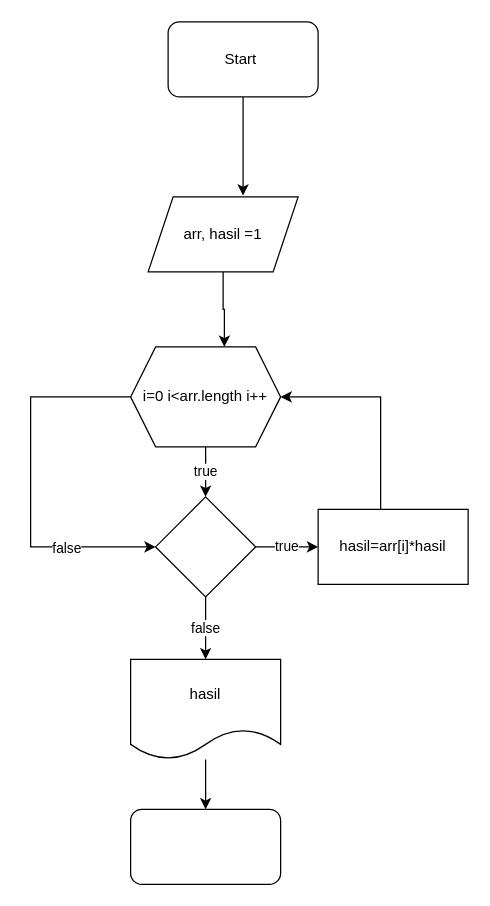
Image size: 490x906. Some labels were removed from this diagram. Here are the shapes that lost their labels. From the top down, the centre of each, then its label:
At (205,546): "1<arr[i]<20".
At (205,846): "end".
